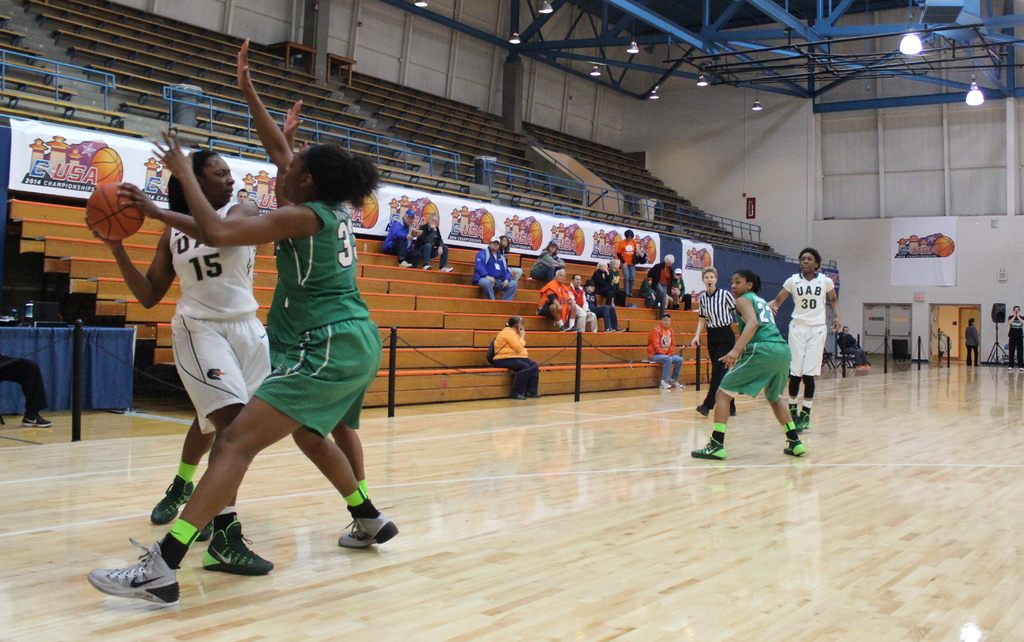Ball: (87, 181, 147, 243), (88, 146, 124, 181), (351, 195, 378, 225), (566, 224, 587, 257), (473, 212, 495, 243), (522, 217, 543, 247), (415, 199, 438, 222), (605, 232, 623, 259), (693, 247, 714, 268), (932, 238, 956, 256), (643, 240, 657, 259)
